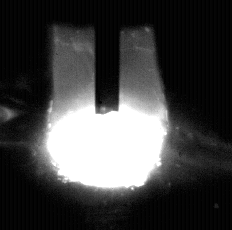arame: (96, 0, 120, 114)
poca: (46, 0, 164, 230)
